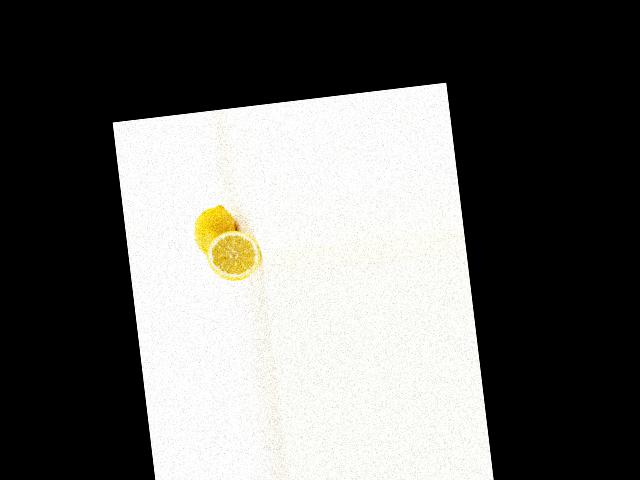lemon: (191, 201, 244, 258)
